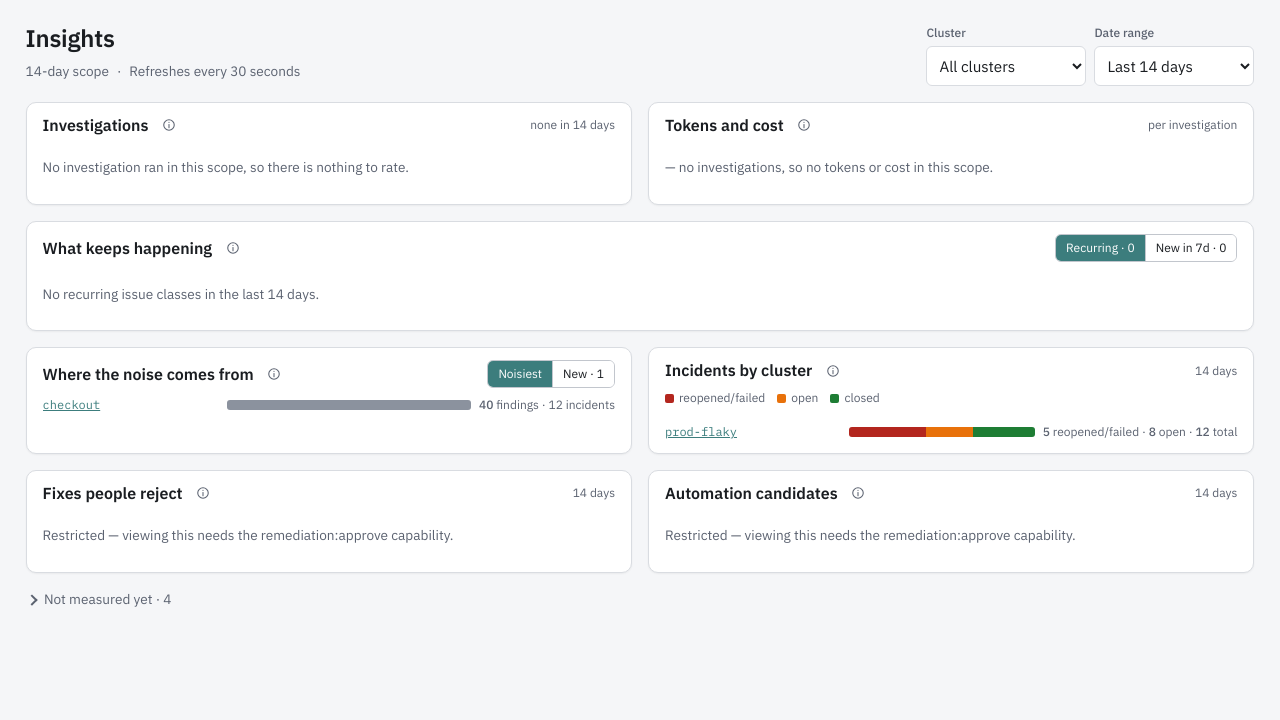
Scenario: InsightsPage — new in this window (BUGS.md 121 part b) › renders a new noisy namespace with a "since" marker, alongside the all-time list
The image size is (1280, 720).
Expected: the link "checkout" is shown, [43, 397, 100, 412]
What coordinates should you click on to do the following:
click the button "New · 1"
I would click on:
 (584, 374)
Its box is [553, 361, 614, 387].
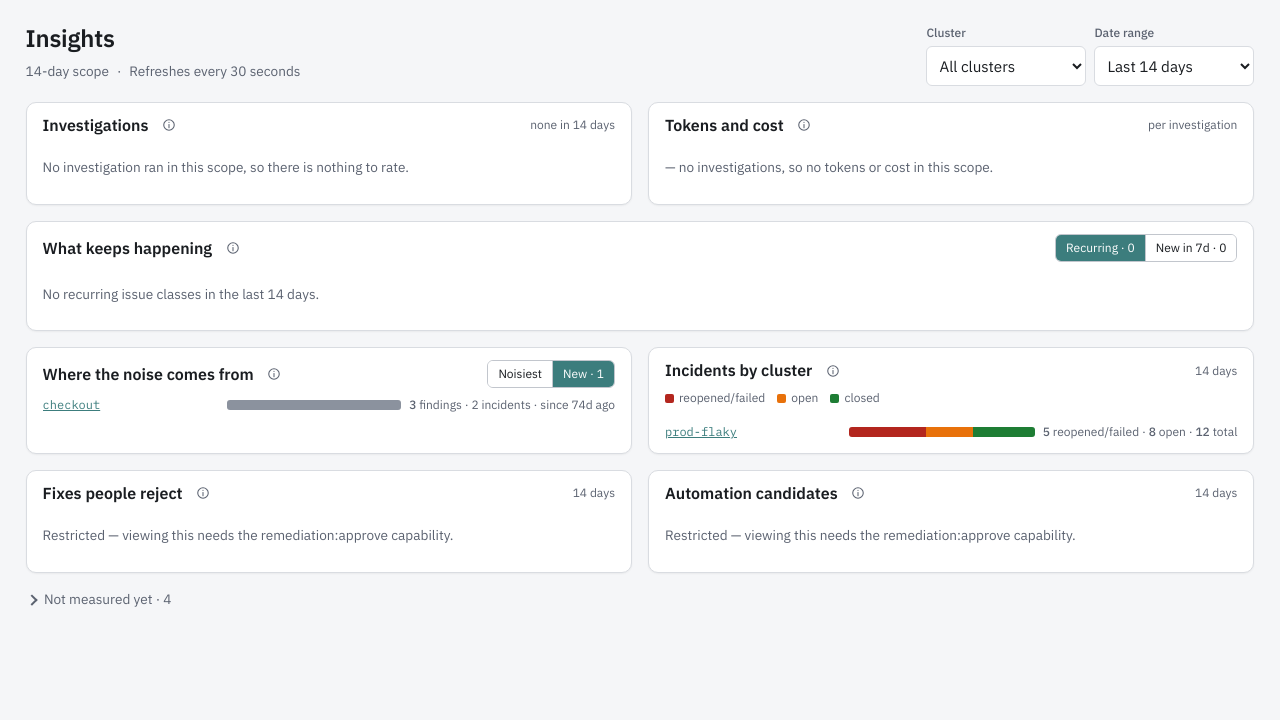
Expected: the link "checkout" is shown, [43, 397, 100, 412]
Expected: the text "3 findings · 2 incidents · since 74d ago" is shown, [409, 396, 615, 414]
